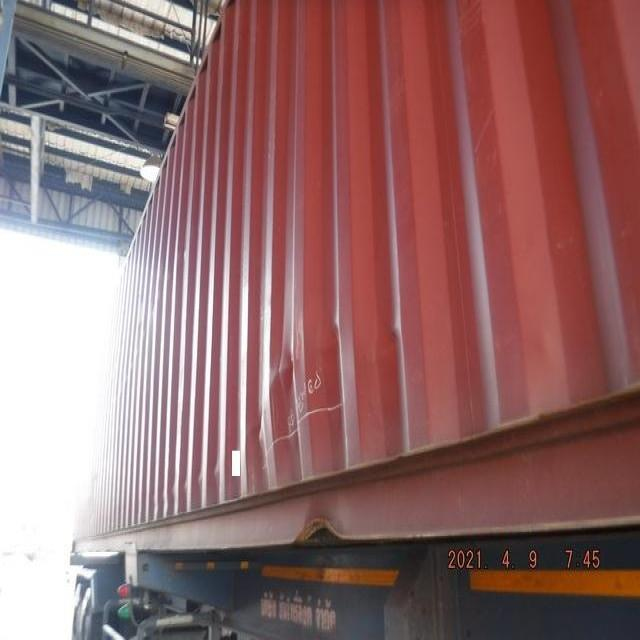Dent: (243, 307, 361, 456)
Minor-Dent: (346, 311, 417, 375)
